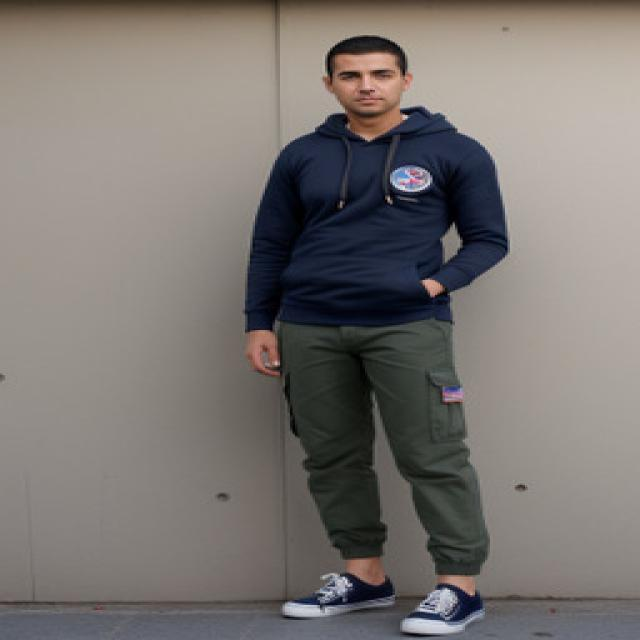Ai human 2: (234, 27, 552, 640)
